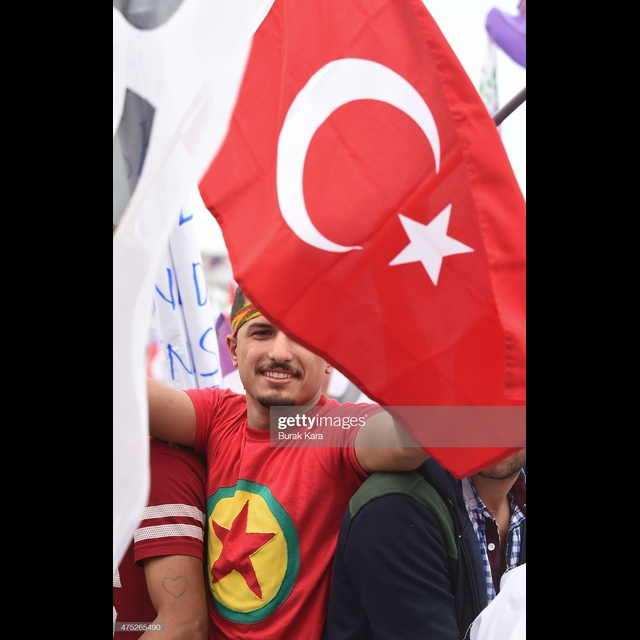PKK: (199, 476, 304, 631)
